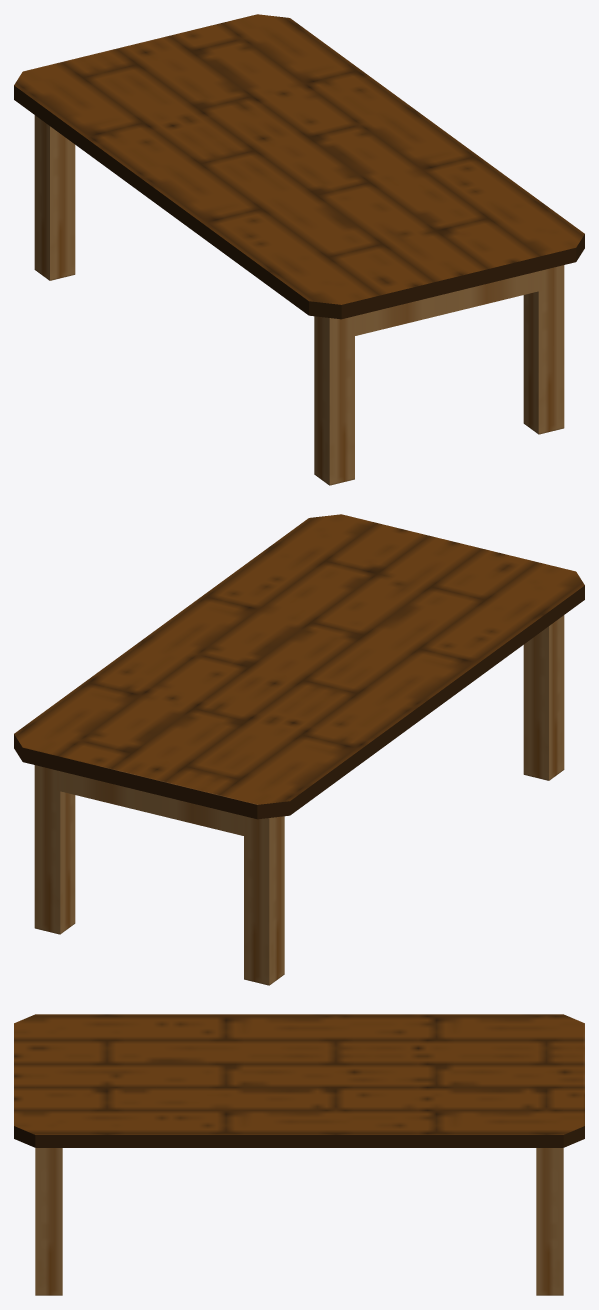
The model's file is wood_long_table.glb.
3 renders of one model, top to bottom at view 1: azimuth 30°, elevation 25°; view 2: azimuth 150°, elevation 25°; view 3: azimuth 270°, elevation 25°, orthographic. The views are drawn at different scales.
Visible parts, largest first — view 1: Wood_Long_Table; view 2: Wood_Long_Table; view 3: Wood_Long_Table.
Part boxes in pixels (x1,y1,x2,y2): Wood_Long_Table: (14,14,584,485); Wood_Long_Table: (14,514,584,985); Wood_Long_Table: (14,1014,584,1295).
Bounding box in the file's own units: 2 × 1.31 × 4.
Materials: 1 (1 with a texture image).
